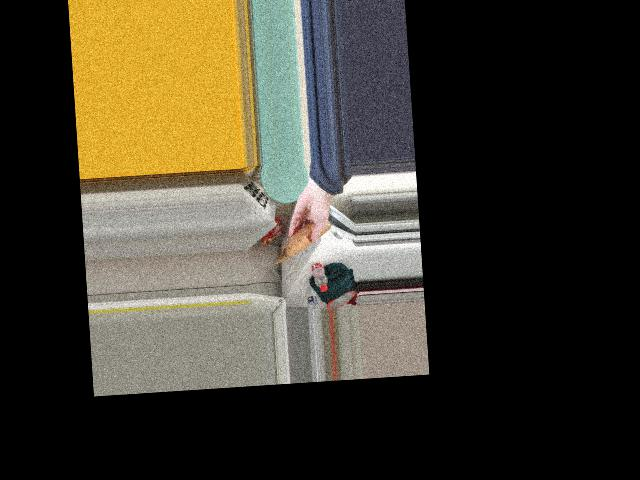sweet_potato: (292, 214, 330, 248)
